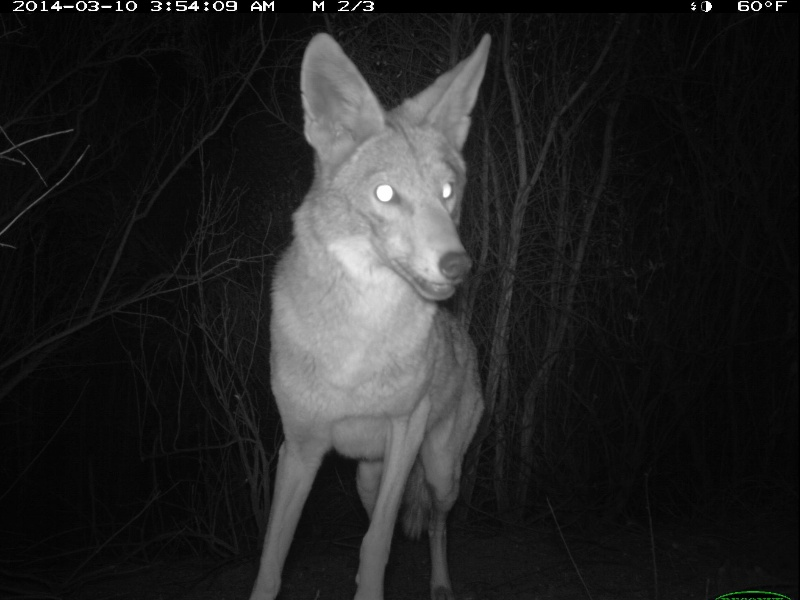coyote: (244, 29, 500, 600)
